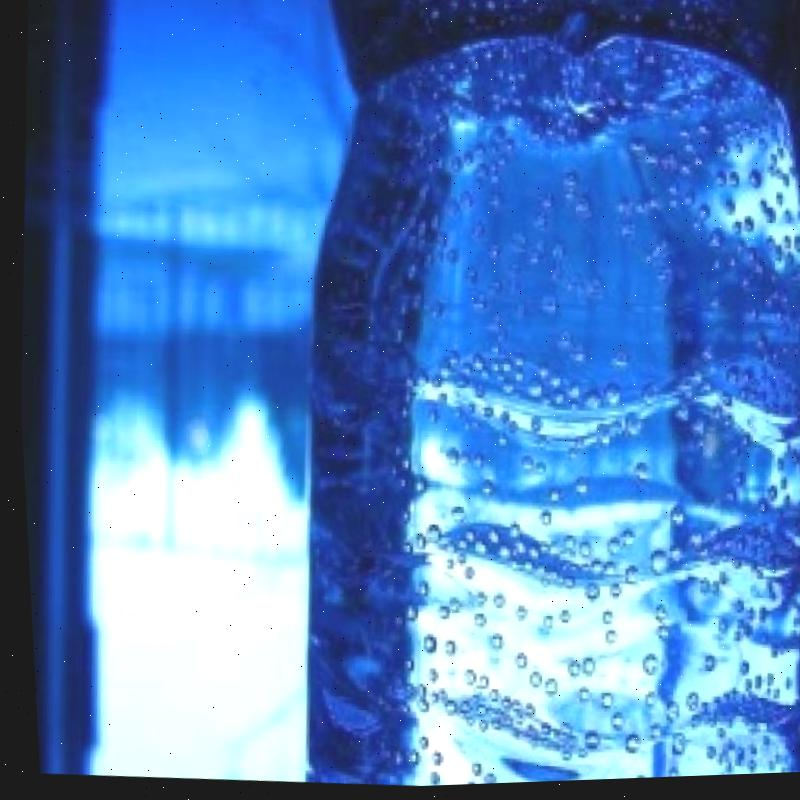botella: (261, 14, 800, 792)
